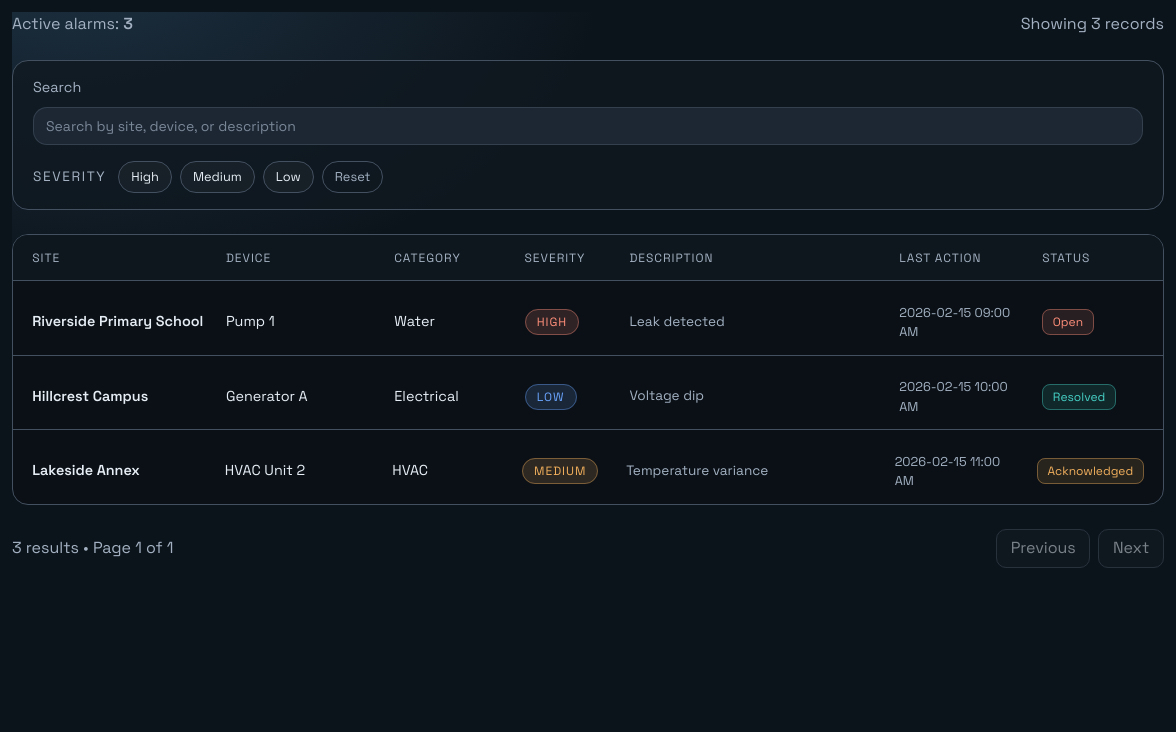
Test: AlarmsView › filters alarms by severity
This screenshot has width=1176, height=732.
Expected: the text "Riverside Primary School" is shown, [32, 311, 210, 333]
Expected: the text "Hillcrest Campus" is shown, [32, 387, 148, 405]
Click the button "High" at (145, 177), box [118, 161, 172, 193]
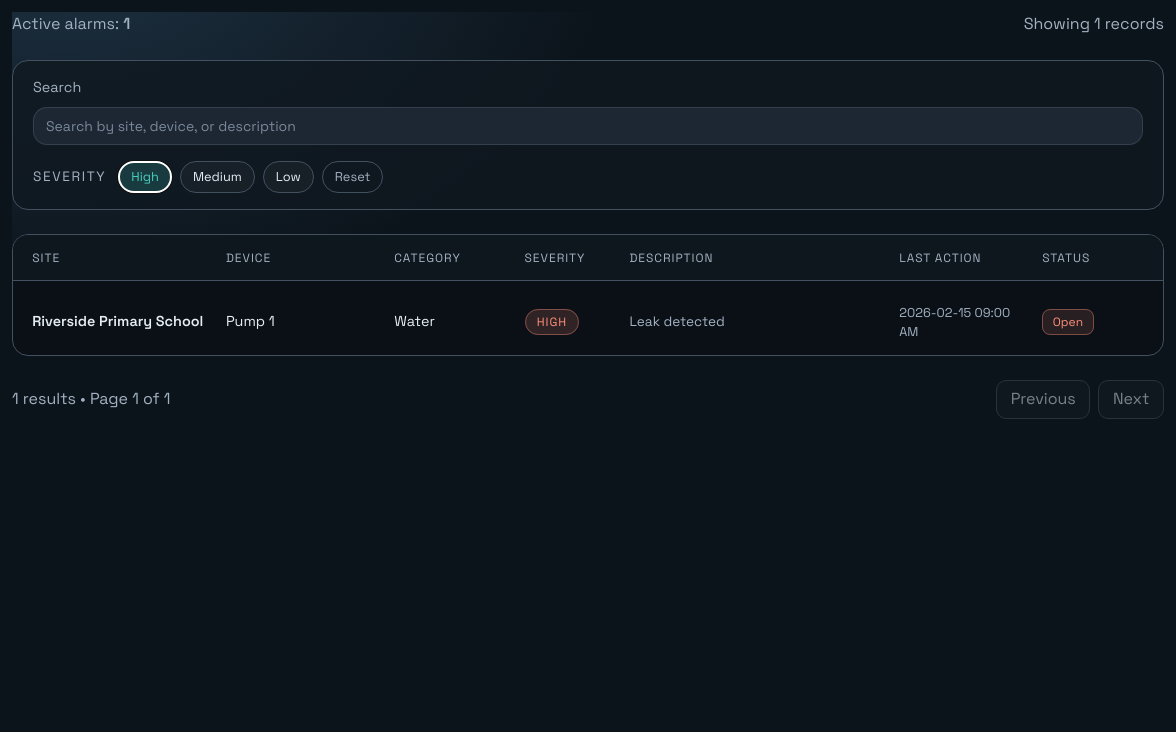
Expected: the text "Riverside Primary School" is shown, [32, 311, 210, 333]
Expected: the text "Hillcrest Campus" is gone
Expected: the text "Lakeside Annex" is gone
Click the button "Reset" at (352, 177), box [322, 161, 383, 193]
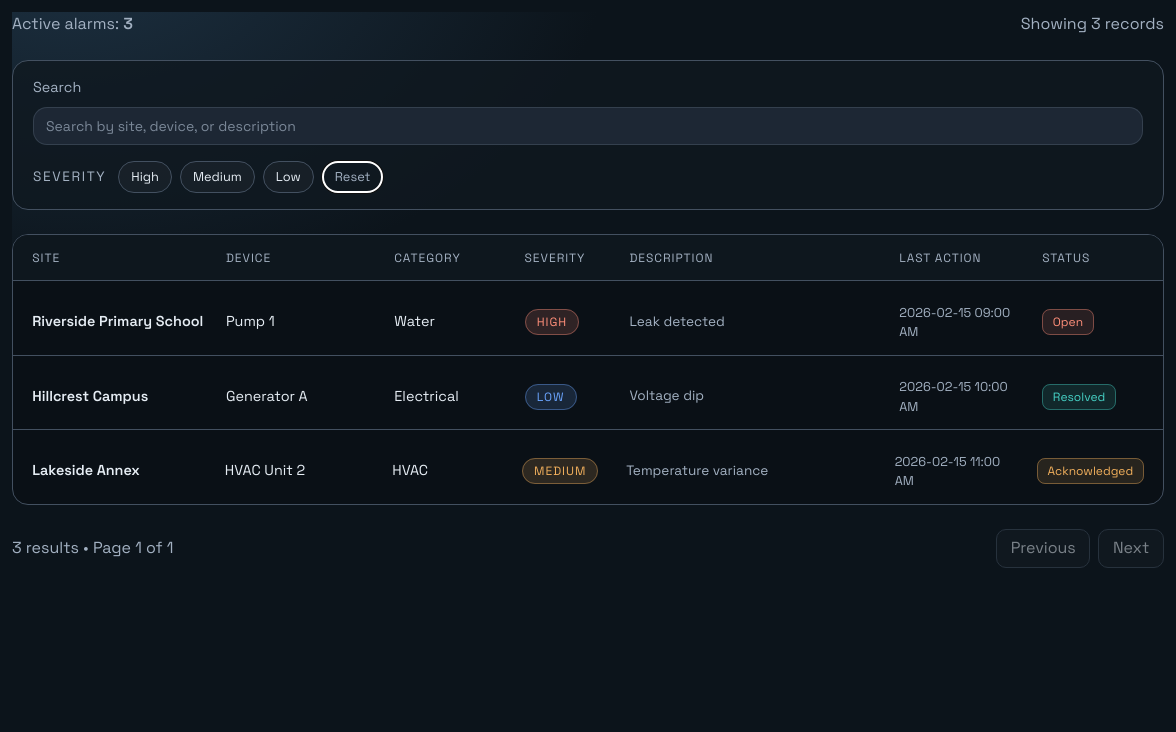
Expected: the text "Hillcrest Campus" is shown, [32, 387, 148, 405]
Expected: the text "Lakeside Annex" is shown, [32, 461, 140, 479]
